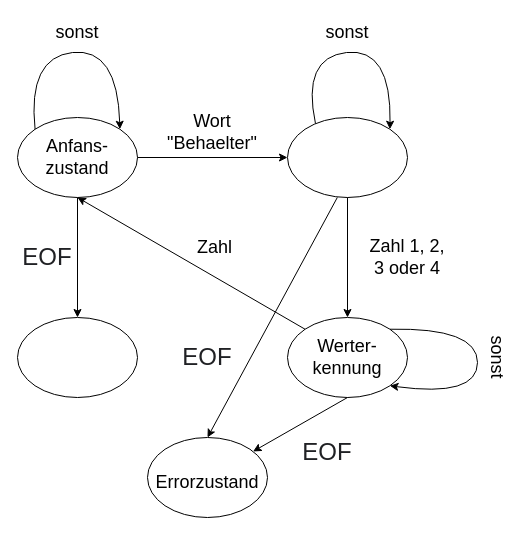
This 530x535 diagram has some shape labels left out. The centre of each missing label's shape, as x and y in pixels:
"Endzustand" belongs at (x=77, y=357).
"Indexer-kennung" belongs at (x=347, y=157).
